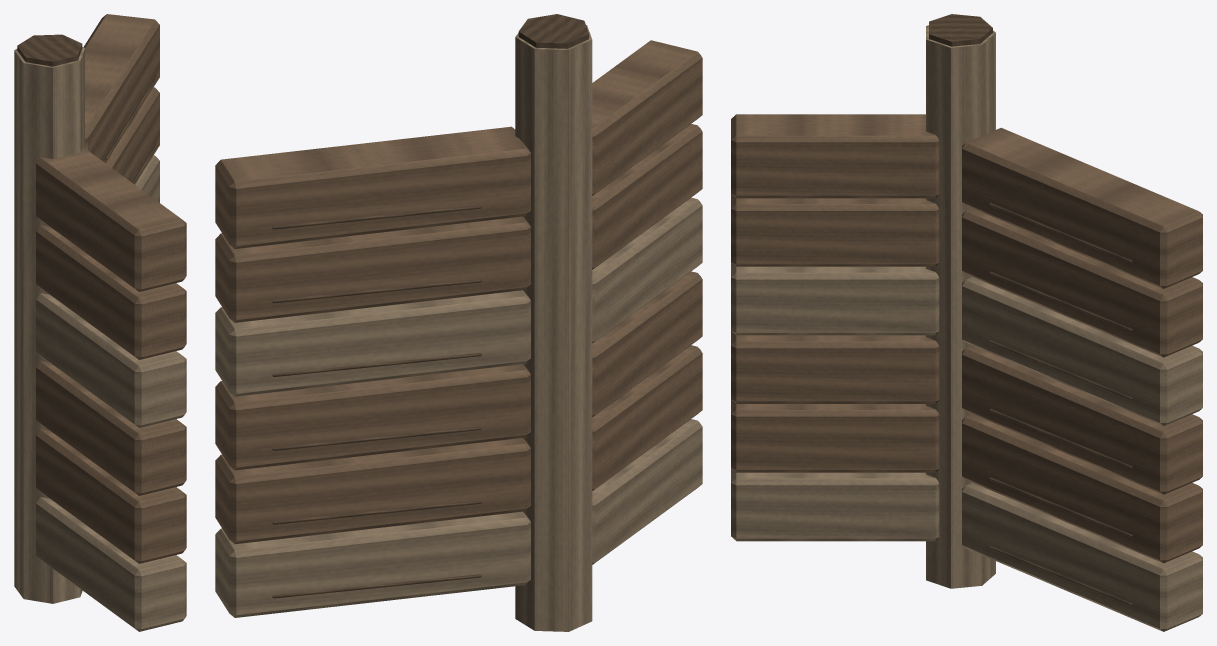
Rendered from wall_mask_9.glb.
The picture shows the model from 3 angles, left to right: view 1: azimuth 30°, elevation 25°; view 2: azimuth 150°, elevation 25°; view 3: azimuth 270°, elevation 25°; orthographic projection. The views are drawn at different scales.
Visible parts, largest first — view 1: wall_mask_9__Weathered_timber, wall_mask_9__Timber_worn_edges, wall_mask_9__Dark_endgrain; view 2: wall_mask_9__Weathered_timber, wall_mask_9__Timber_worn_edges, wall_mask_9__Dark_endgrain; view 3: wall_mask_9__Weathered_timber, wall_mask_9__Timber_worn_edges, wall_mask_9__Dark_endgrain.
Boxes of the visible parts, left/top/right/bottom form: wall_mask_9__Weathered_timber: left=36, top=14, right=186, bottom=563; wall_mask_9__Timber_worn_edges: left=14, top=47, right=186, bottom=631; wall_mask_9__Dark_endgrain: left=17, top=34, right=158, bottom=183; wall_mask_9__Weathered_timber: left=215, top=40, right=702, bottom=544; wall_mask_9__Timber_worn_edges: left=215, top=25, right=702, bottom=631; wall_mask_9__Dark_endgrain: left=272, top=14, right=588, bottom=598; wall_mask_9__Weathered_timber: left=731, top=114, right=1202, bottom=563; wall_mask_9__Timber_worn_edges: left=731, top=25, right=1202, bottom=631; wall_mask_9__Dark_endgrain: left=929, top=14, right=1132, bottom=605.
Bounding box in the file's own units: 0.6463 × 1.39 × 1.09.
Materials: 3 (3 with a texture image).
